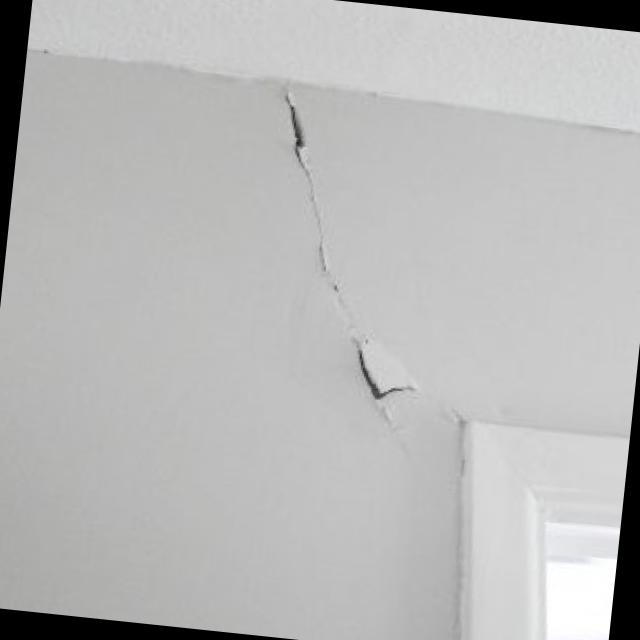crack: (252, 82, 446, 401)
